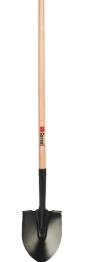PELLE: (21, 0, 91, 262)
